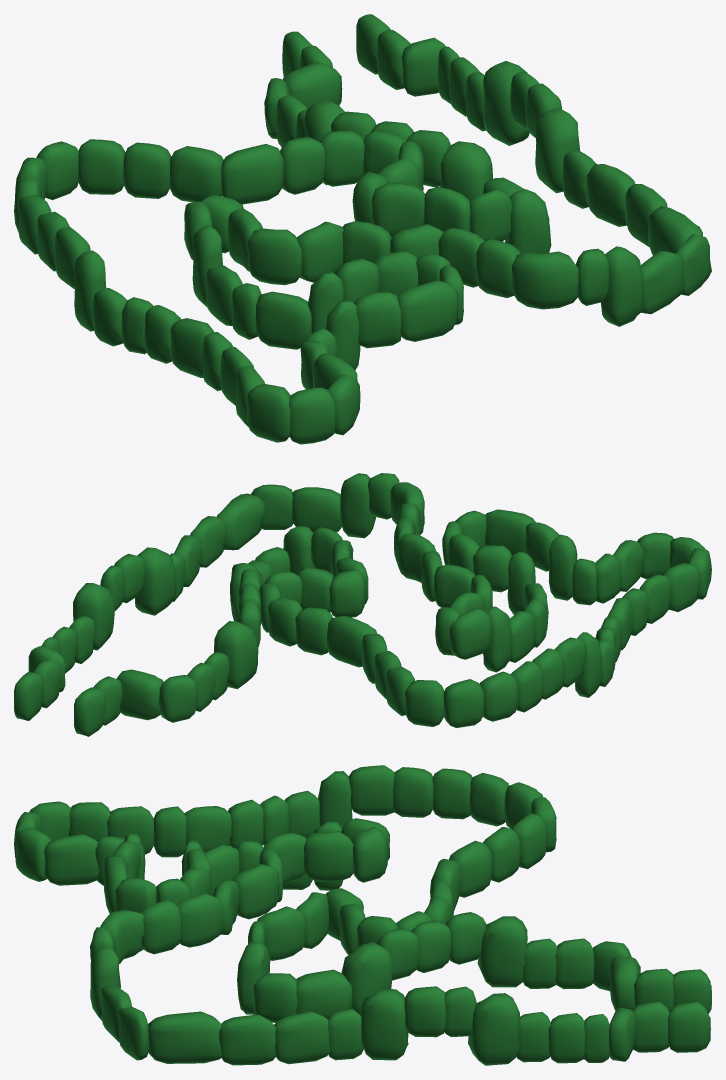
Rendered from ArbustosPrimavera.fbx.
3 renders of one model, top to bottom at view 1: azimuth 30°, elevation 25°; view 2: azimuth 150°, elevation 25°; view 3: azimuth 270°, elevation 25°, orthographic. The views are drawn at different scales.
Parts seen in each view (by area): view 1: Cube; view 2: Cube; view 3: Cube.
Part boxes in pixels (x1=…): Cube: x1=14, y1=14, x2=711, y2=444; Cube: x1=14, y1=473, x2=711, y2=736; Cube: x1=14, y1=765, x2=711, y2=1065.
Size of the model in its own units: 17562 by 2552 by 21903.
